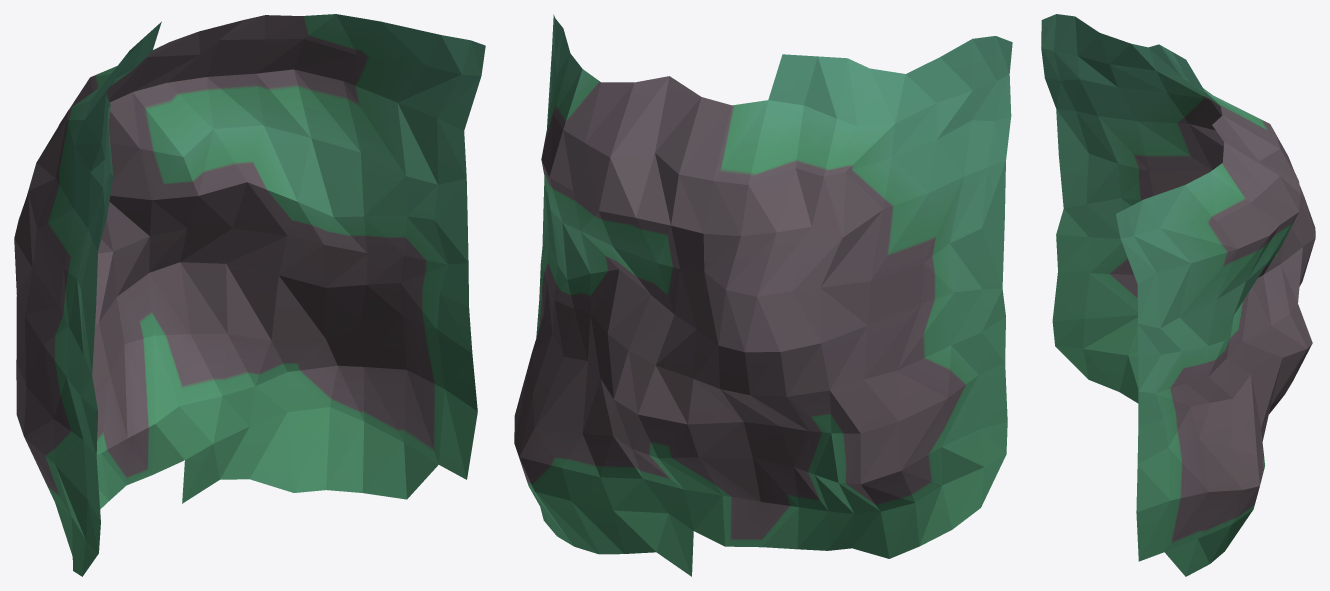
The model's file is Ground_02.FBX.
3 renders of one model, left to right at view 1: azimuth 30°, elevation 25°; view 2: azimuth 150°, elevation 25°; view 3: azimuth 270°, elevation 25°, orthographic. The views are drawn at different scales.
Parts seen in each view (by area): view 1: Ground_02; view 2: Ground_02; view 3: Ground_02.
Part boxes in pixels (box(x1,y1,x2,y2)): Ground_02: box(14, 14, 485, 576); Ground_02: box(514, 14, 1012, 576); Ground_02: box(1041, 14, 1315, 576).
Bounding box in the file's own units: 11.15 × 13.26 × 7.8.
